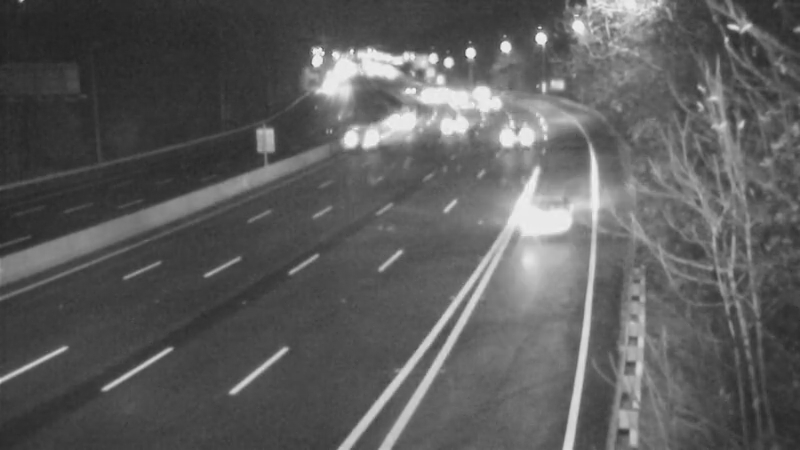vehicle: (508, 180, 588, 260), (457, 66, 507, 116), (462, 76, 512, 126), (433, 78, 483, 128), (380, 97, 430, 147), (423, 97, 473, 147), (487, 106, 537, 156), (334, 108, 384, 158)
